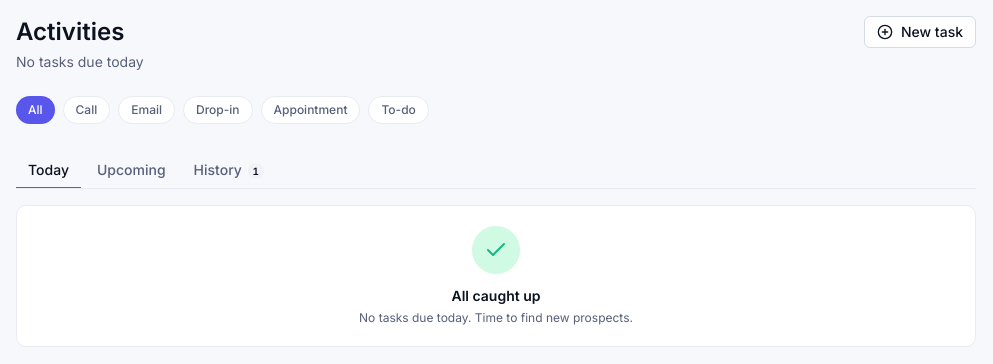
ActivitiesPage / History says who logged it › names the colleague on a row the viewer did not log
Click the tab "History 1" at (229, 170), box x1=182 y1=152 x2=276 y2=188
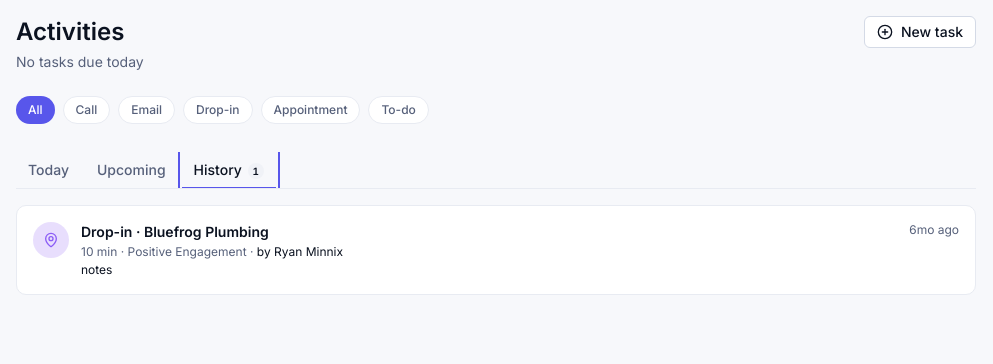
Expected: the text "by Ryan Minnix" is shown, x1=257 y1=244 x2=343 y2=259
